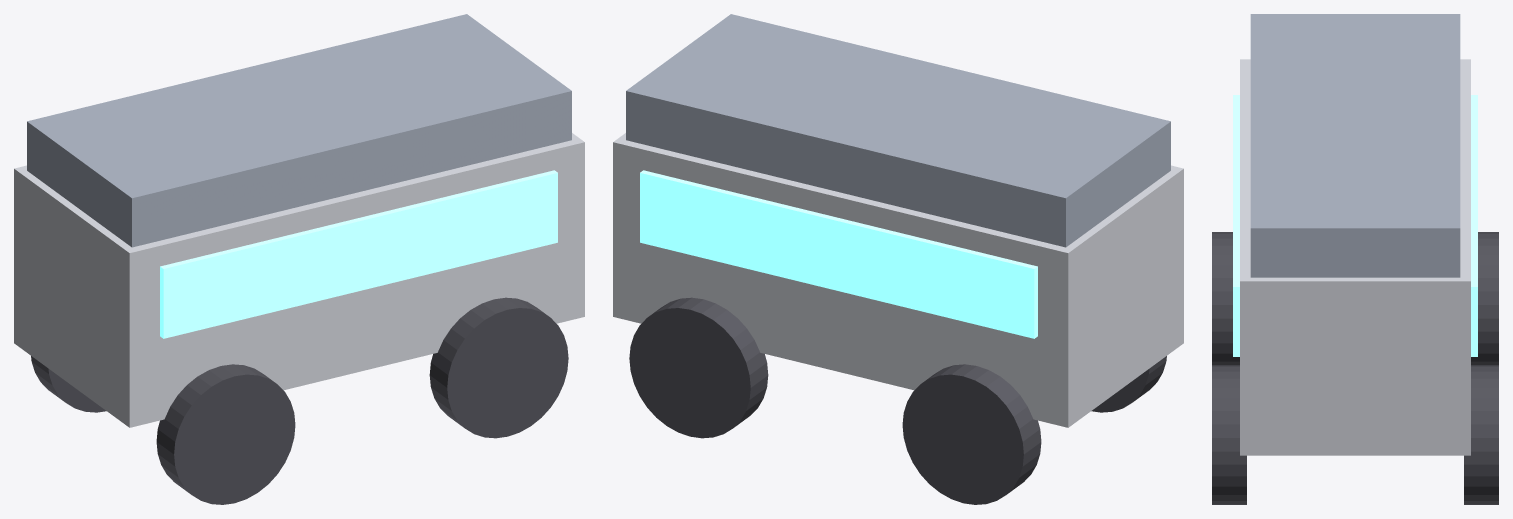
Rendered from car_passenger.glb.
3 views of the same model, side by side, from view 1: azimuth 30°, elevation 25°; view 2: azimuth 150°, elevation 25°; view 3: azimuth 270°, elevation 25° (orthographic).
Visible parts, largest first — view 1: roof, body, win_r, Cylinder.003, Cylinder.001, Cylinder.002; view 2: roof, body, win_l, Cylinder.002, Cylinder, Cylinder.003; view 3: roof, body, Cylinder, Cylinder.001, Cylinder.002, Cylinder.003, win_l, win_r.
Part boxes in pixels (<box>): roof: <box>27,14,571,247</box>; body: <box>14,133,584,427</box>; win_r: <box>160,170,557,338</box>; Cylinder.003: <box>156,364,295,504</box>; Cylinder.001: <box>429,297,568,438</box>; Cylinder.002: <box>31,356,106,412</box>; roof: <box>626,14,1170,247</box>; body: <box>613,133,1183,427</box>; win_l: <box>640,170,1037,338</box>; Cylinder.002: <box>902,364,1041,504</box>; Cylinder: <box>629,297,768,438</box>; Cylinder.003: <box>1091,356,1166,412</box>; roof: <box>1250,14,1460,277</box>; body: <box>1240,59,1470,455</box>; Cylinder: <box>1464,365,1498,504</box>; Cylinder.001: <box>1212,365,1246,504</box>; Cylinder.002: <box>1471,232,1498,365</box>; Cylinder.003: <box>1212,232,1239,365</box>; win_l: <box>1471,95,1477,356</box>; win_r: <box>1233,95,1239,356</box>.
Size of the model in its own units: 1.5 by 0.98 by 0.82.
